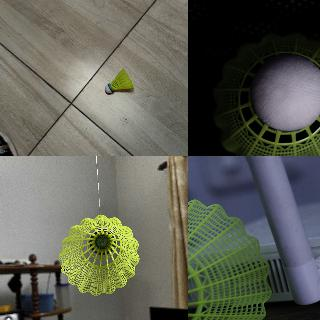shuttlecock: (211, 33, 319, 155), (188, 199, 272, 319), (59, 214, 139, 296), (104, 69, 132, 95)
